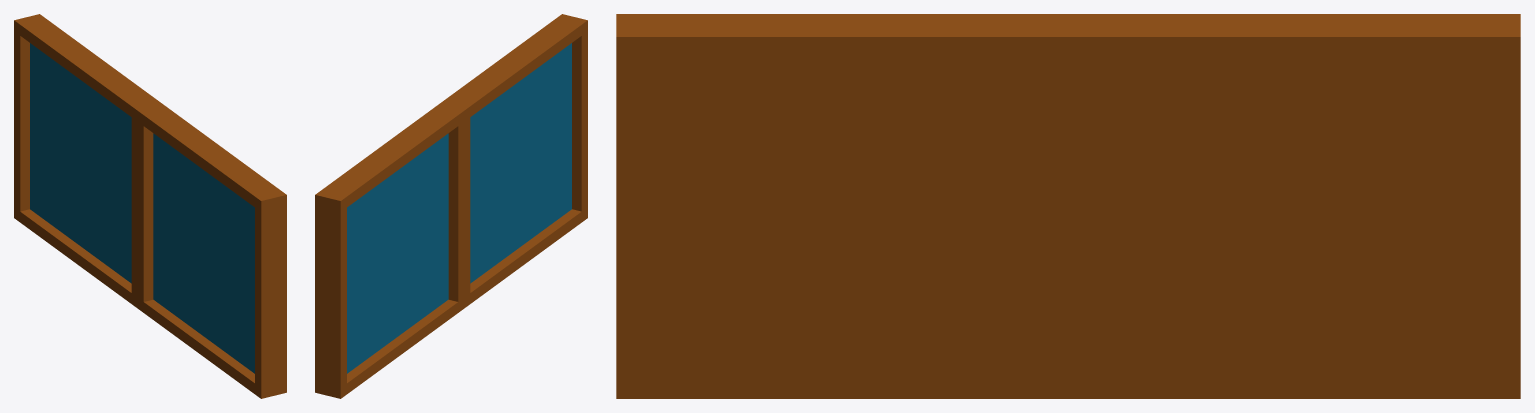
The model's file is janelaDupl.FBX.
The picture shows the model from 3 angles, left to right: view 1: azimuth 30°, elevation 25°; view 2: azimuth 150°, elevation 25°; view 3: azimuth 270°, elevation 25°; orthographic projection. The views are drawn at different scales.
Visible parts, largest first — view 1: Box071; view 2: Box071; view 3: Box071.
Part boxes in pixels (box(x1,y1,x2,y2)): Box071: box(14, 14, 286, 398); Box071: box(315, 14, 587, 398); Box071: box(616, 14, 1520, 398).
Size of the model in its own units: 6.58 by 48.46 by 110.
